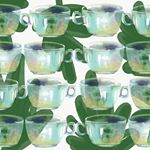cups: (77, 75, 129, 113), (75, 112, 127, 150), (24, 110, 76, 148), (26, 75, 78, 113), (22, 38, 74, 76), (73, 1, 125, 39), (19, 1, 71, 38)
